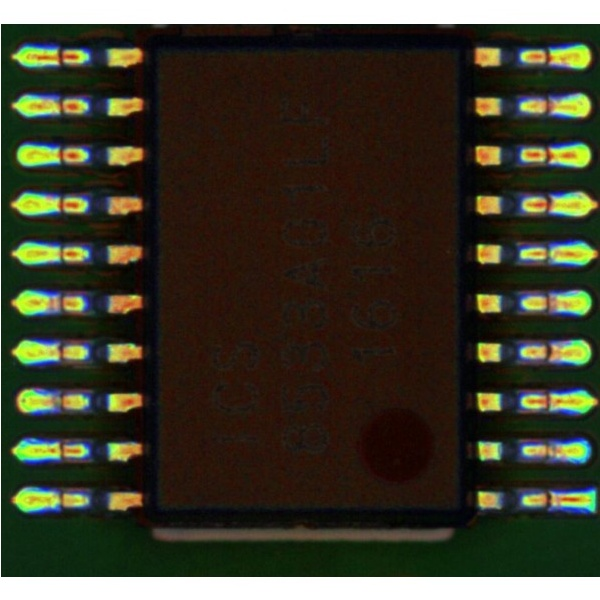Bad_podu: (39, 344, 73, 358), (533, 296, 565, 310), (532, 345, 566, 358), (532, 199, 572, 210), (41, 443, 72, 456), (532, 148, 562, 161), (531, 446, 558, 460), (531, 396, 568, 406), (39, 100, 73, 110), (533, 495, 566, 505), (42, 51, 72, 62), (533, 248, 565, 258), (44, 298, 73, 309), (536, 99, 563, 109), (533, 52, 565, 60)
